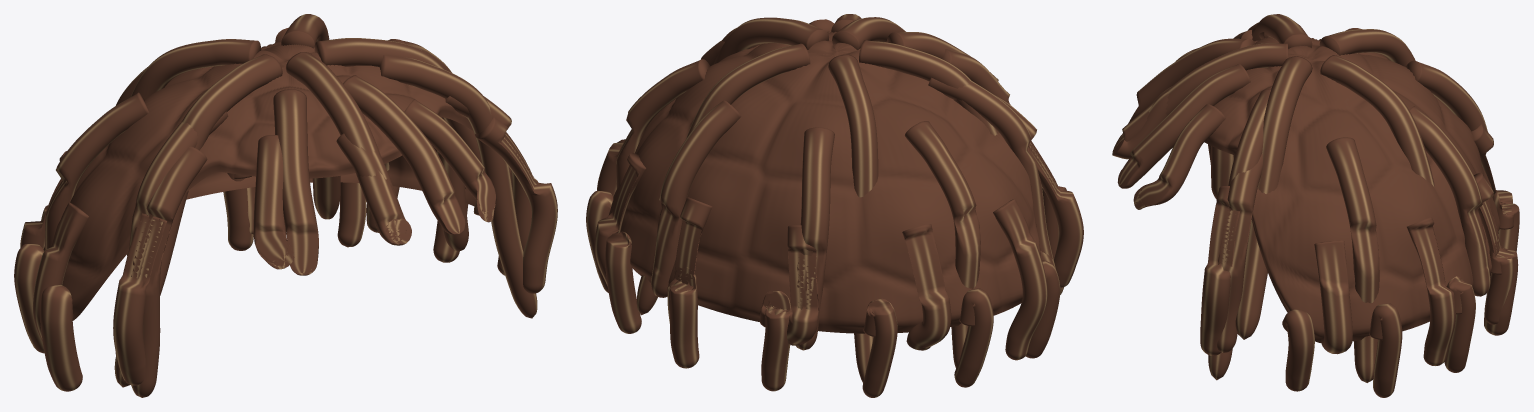
The model's file is Highlights-25ce2f064639252-hair.glb.
3 views of the same model, side by side, from view 1: azimuth 30°, elevation 25°; view 2: azimuth 150°, elevation 25°; view 3: azimuth 270°, elevation 25° (orthographic). The views are drawn at different scales.
Visible parts, largest first — view 1: 226 hair / Hair252 / sectioned locs.001; view 2: 226 hair / Hair252 / sectioned locs.001; view 3: 226 hair / Hair252 / sectioned locs.001.
Part boxes in pixels (left/top/right/bottom): 226 hair / Hair252 / sectioned locs.001: left=14, top=14, right=557, bottom=397; 226 hair / Hair252 / sectioned locs.001: left=586, top=14, right=1083, bottom=397; 226 hair / Hair252 / sectioned locs.001: left=1112, top=14, right=1519, bottom=397.
Bounding box in the file's own units: 1.1 × 0.6395 × 0.8891.
1 material, 1 textured.
